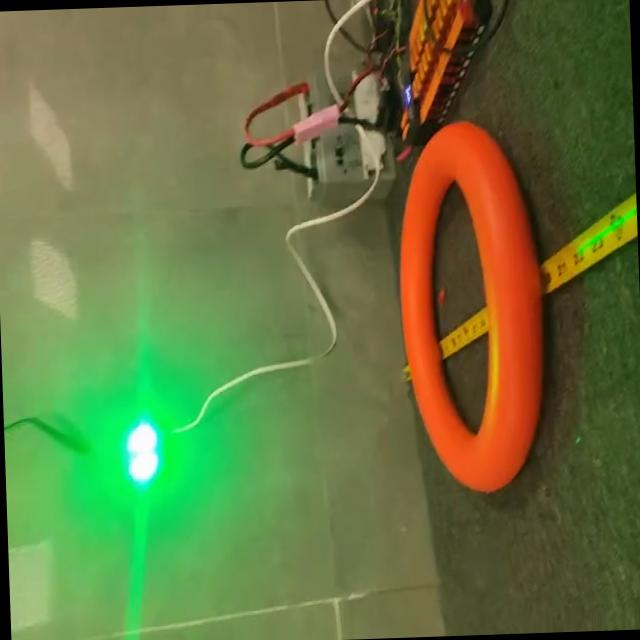note: (392, 117, 550, 500)
